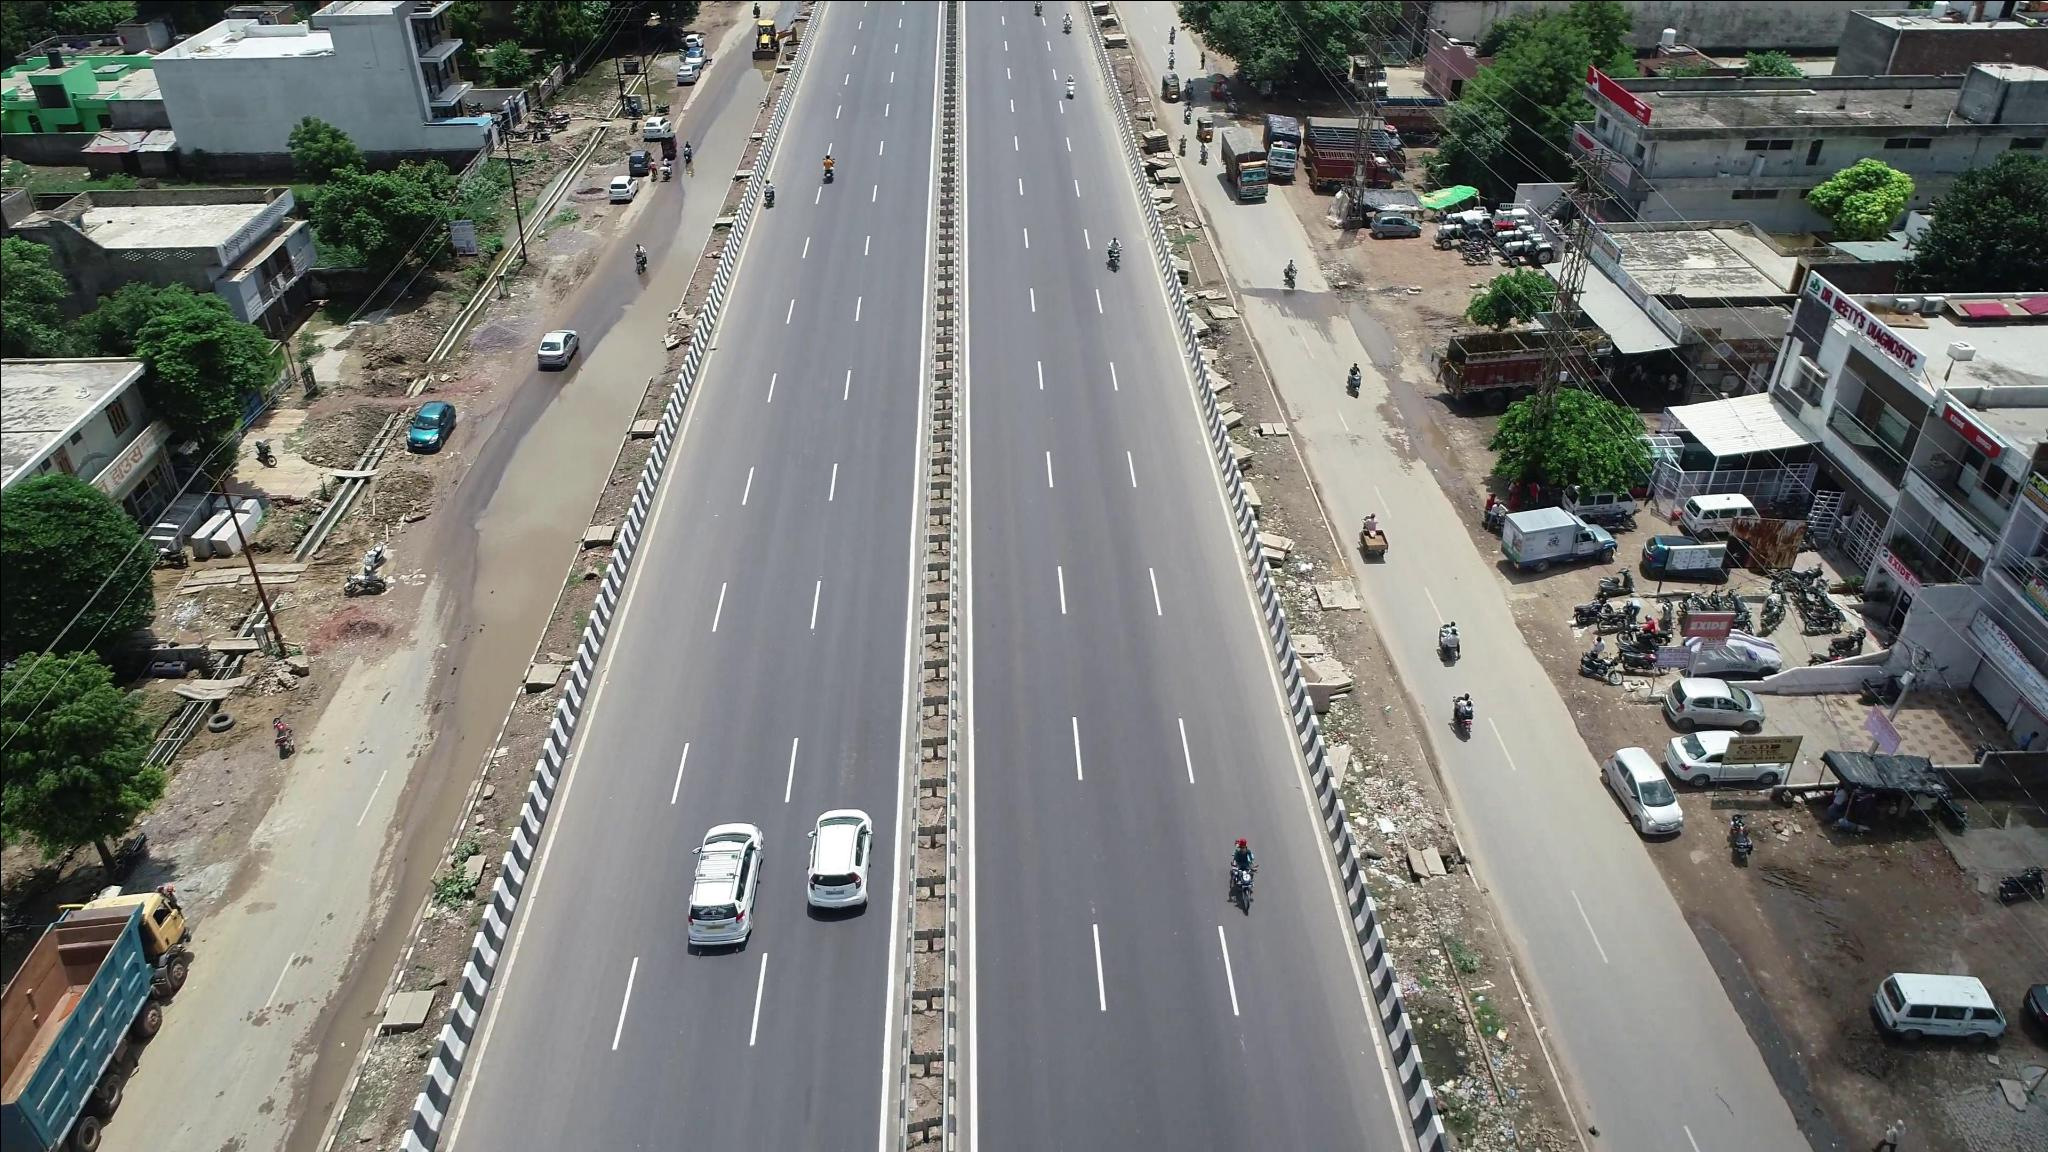Waterlogging: (471, 374, 603, 698)
